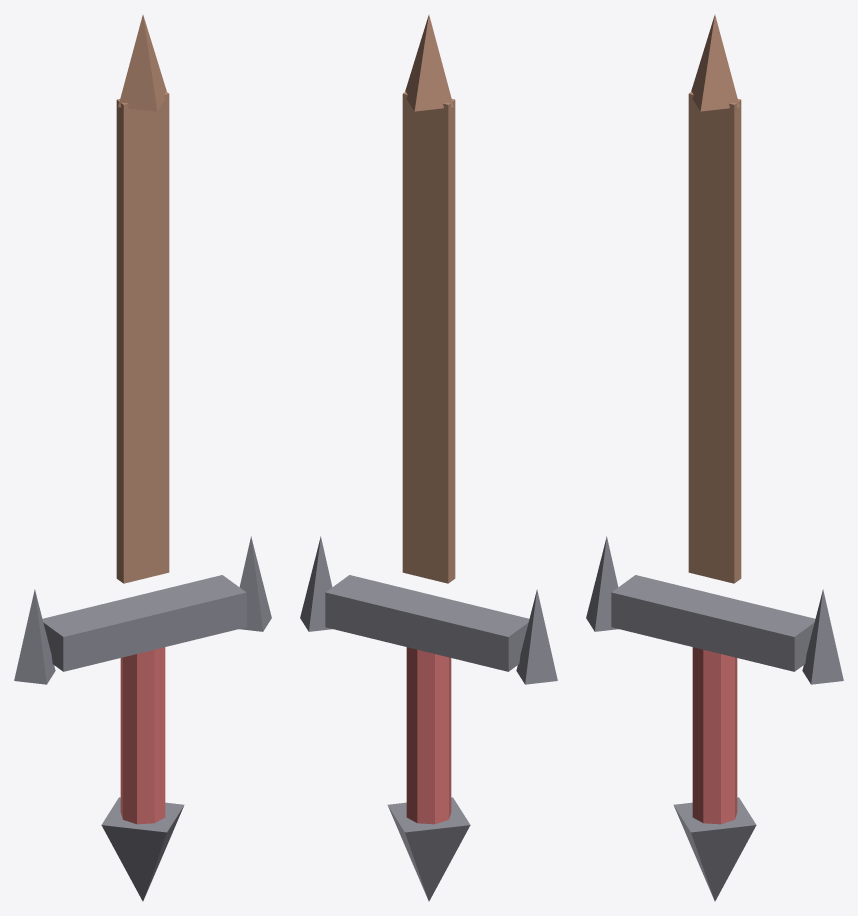
File: wpn_cursed_blade.glb
3 views of the same model, side by side, from view 1: azimuth 30°, elevation 25°; view 2: azimuth 150°, elevation 25°; view 3: azimuth 330°, elevation 25° (orthographic).
Parts seen in each view (by area): view 1: Weapon_CursedBlade; view 2: Weapon_CursedBlade; view 3: Weapon_CursedBlade.
Boxes of the visible parts, x1,y1,x2,y2 form: Weapon_CursedBlade: (14,15,271,901); Weapon_CursedBlade: (300,15,557,901); Weapon_CursedBlade: (586,15,843,901).
Bounding box in the file's own units: 0.31 × 1.02 × 0.1.
